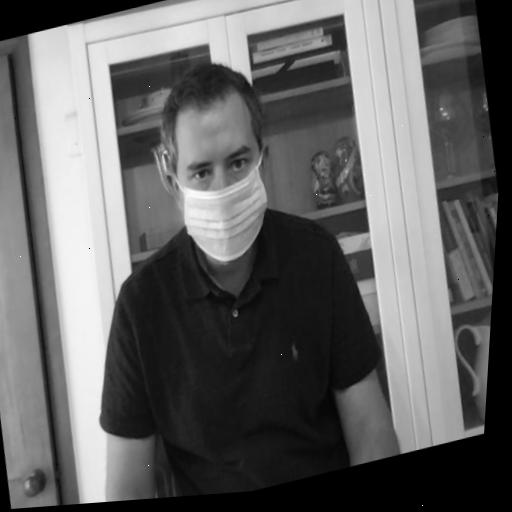mask: (140, 45, 294, 281)
